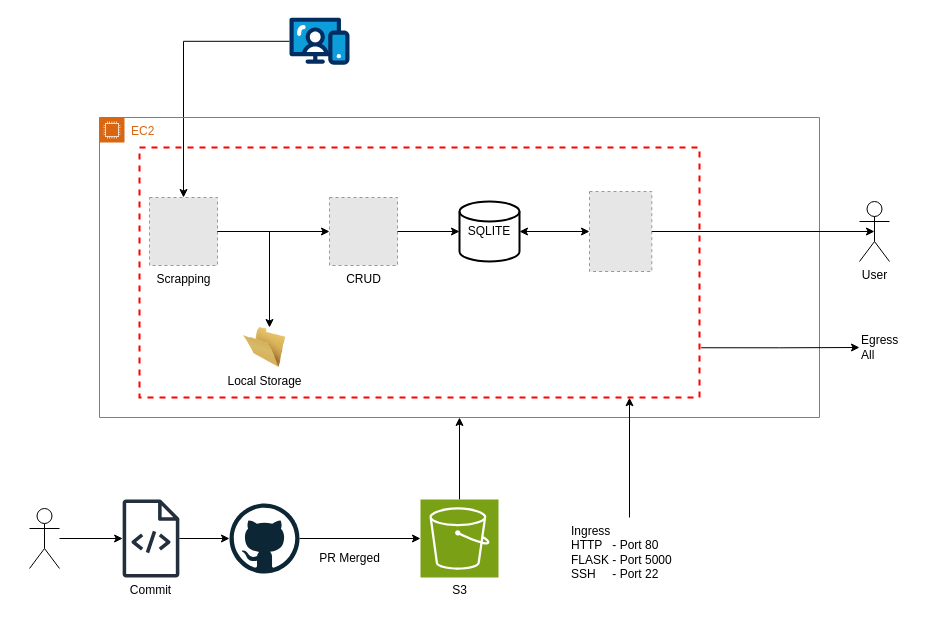
Image size: 937x623. Some labels were removed from this diagram. Grey dashed boxes stand in for pictures. The shapes that lost their labels are listed below. From the top down, each one's box as (x1, y1, x2, y2) in pixels, then its label:
(288, 16, 350, 65): VITIBRASIL
(138, 146, 700, 398): Security Group
(28, 508, 60, 568): Developer
